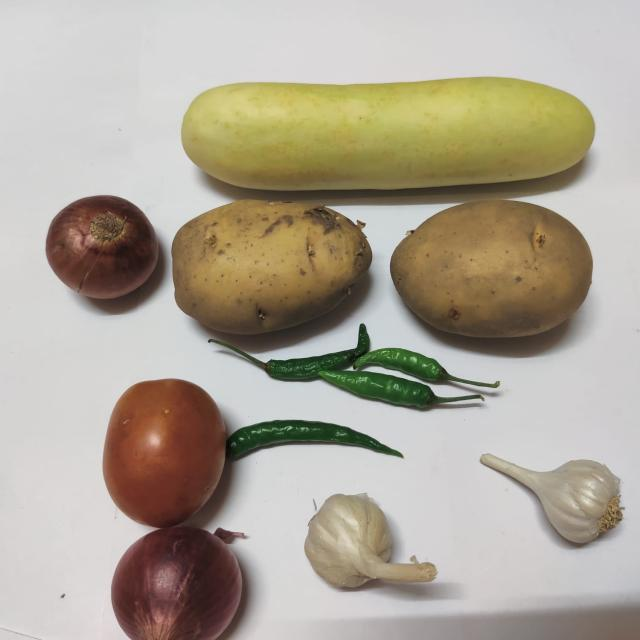Organik: (171, 70, 625, 204), (376, 198, 627, 341), (160, 186, 381, 344), (211, 331, 531, 411), (295, 480, 460, 604), (97, 380, 234, 528), (478, 438, 638, 562), (101, 525, 255, 640), (43, 185, 165, 314), (222, 421, 396, 471)
